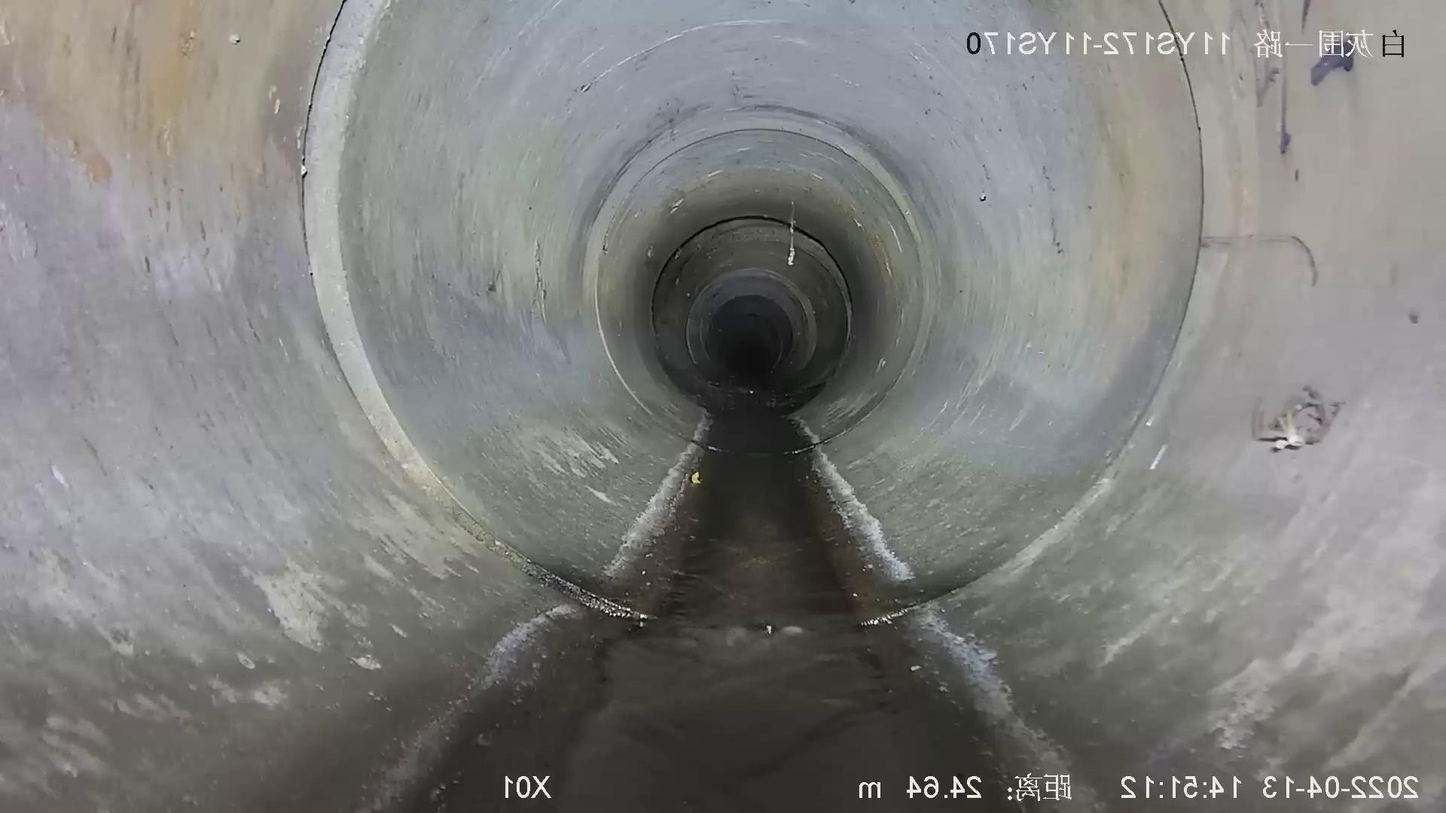CKTJ: (301, 0, 651, 623), (583, 108, 924, 316), (657, 218, 852, 307)
